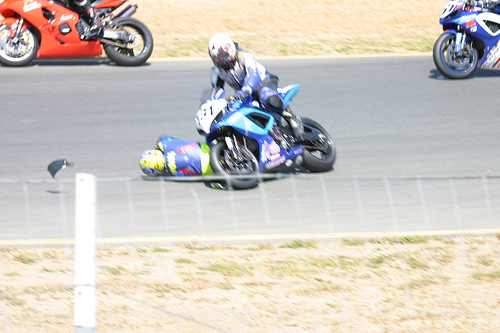helmet: (205, 35, 236, 62), (142, 147, 164, 171)
